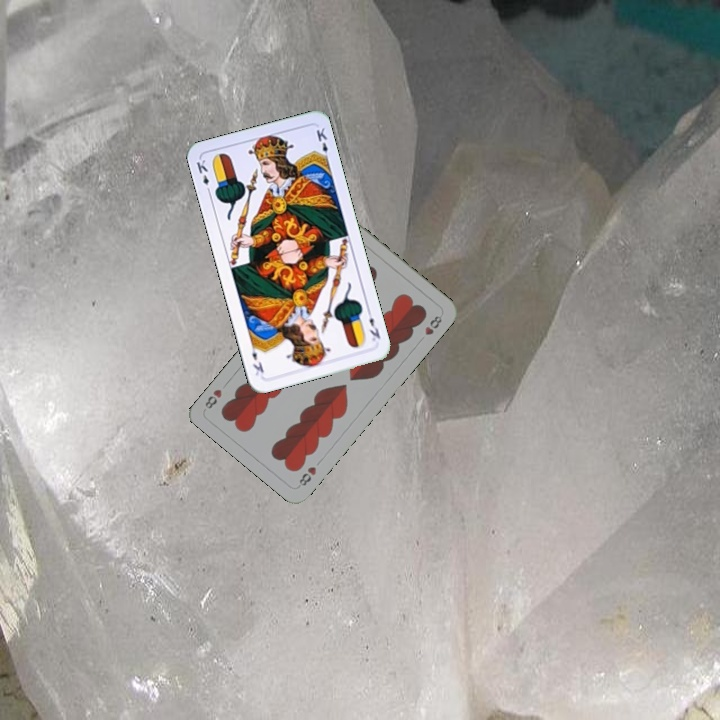EK: (192, 155, 213, 196), (363, 306, 383, 344)
H8: (294, 462, 319, 490)
